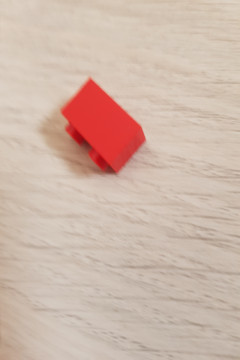1x2 red: (58, 76, 148, 176)
